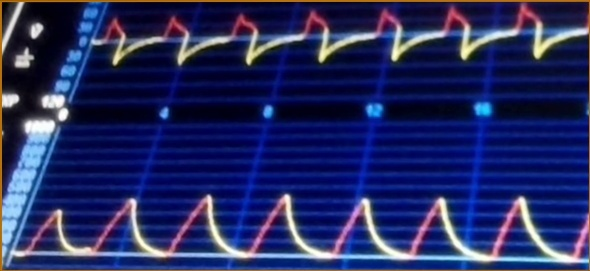Normal Flow: (90, 2, 590, 82)
Normal Volume: (20, 188, 590, 271)
